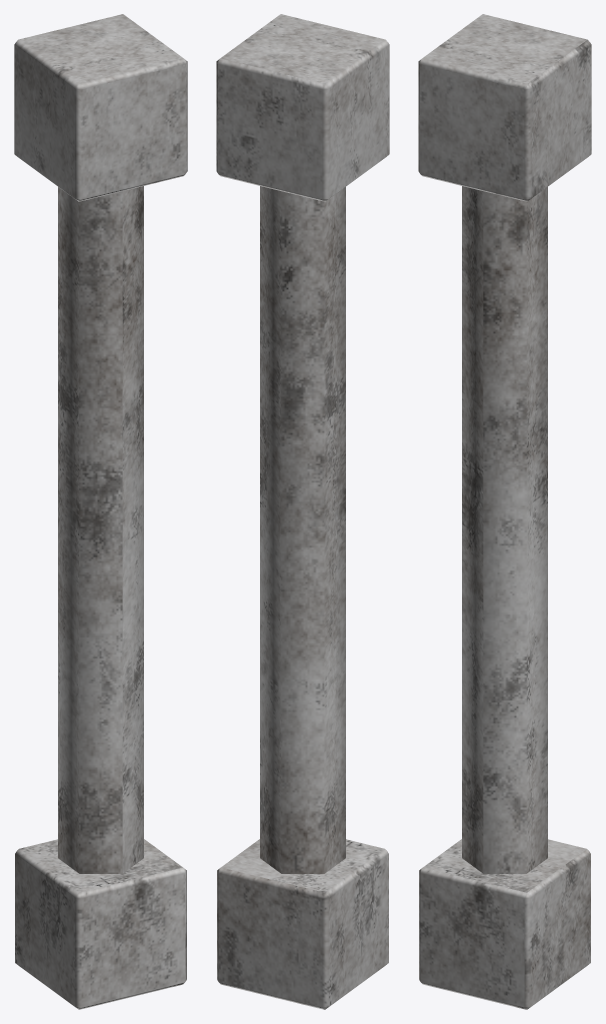
Rendered from Scaffolding_pole_A.fbx.
3 views of the same model, side by side, from view 1: azimuth 30°, elevation 25°; view 2: azimuth 150°, elevation 25°; view 3: azimuth 330°, elevation 25° (orthographic).
Visible parts, largest first — view 1: Scaffolding_pole_A; view 2: Scaffolding_pole_A; view 3: Scaffolding_pole_A.
Boxes of the visible parts, left/top/right/bottom form: Scaffolding_pole_A: left=14, top=14, right=187, bottom=1009; Scaffolding_pole_A: left=216, top=14, right=389, bottom=1009; Scaffolding_pole_A: left=418, top=14, right=591, bottom=1009.
Bounding box in the file's own units: 28.74 × 226 × 28.74.
